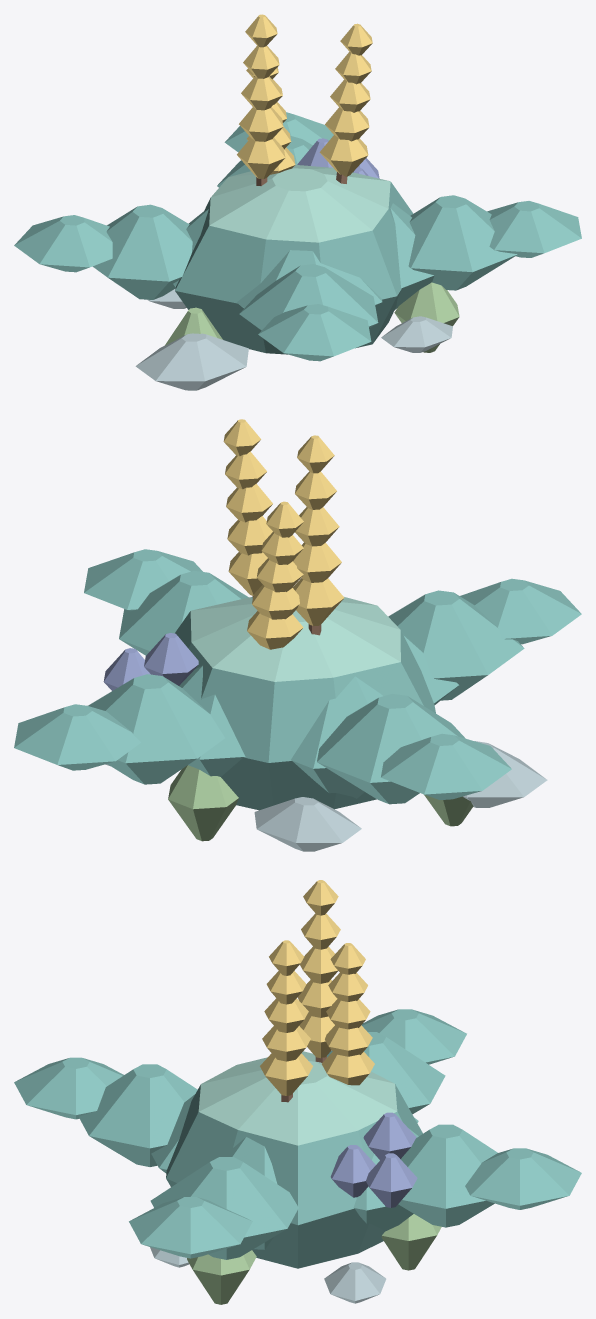
The model's file is lagoon_shrub_oregon_grape_a.glb.
3 renders of one model, top to bottom at view 1: azimuth 30°, elevation 25°; view 2: azimuth 150°, elevation 25°; view 3: azimuth 270°, elevation 25°, orthographic. The views are drawn at different scales.
Parts seen in each view (by area): view 1: lagoon_shrub_oregon_grape_a.001; view 2: lagoon_shrub_oregon_grape_a.001; view 3: lagoon_shrub_oregon_grape_a.001.
Part boxes in pixels (left/top/right/bottom): lagoon_shrub_oregon_grape_a.001: left=14, top=14, right=581, bottom=390; lagoon_shrub_oregon_grape_a.001: left=14, top=419, right=581, bottom=851; lagoon_shrub_oregon_grape_a.001: left=14, top=880, right=581, bottom=1304.
Bounding box in the file's own units: 2.47 × 1.72 × 2.48.
